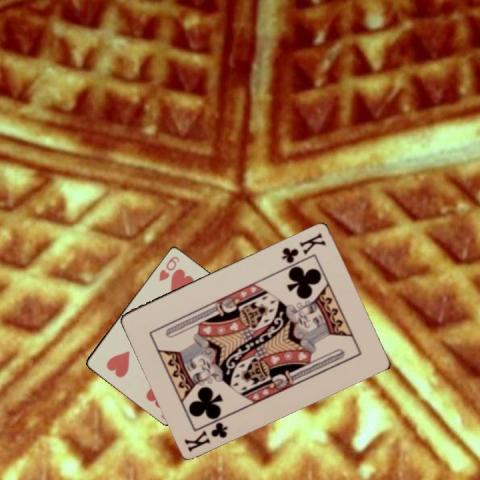6h: (156, 252, 181, 282)
Kc: (279, 229, 327, 264), (182, 419, 229, 452)
